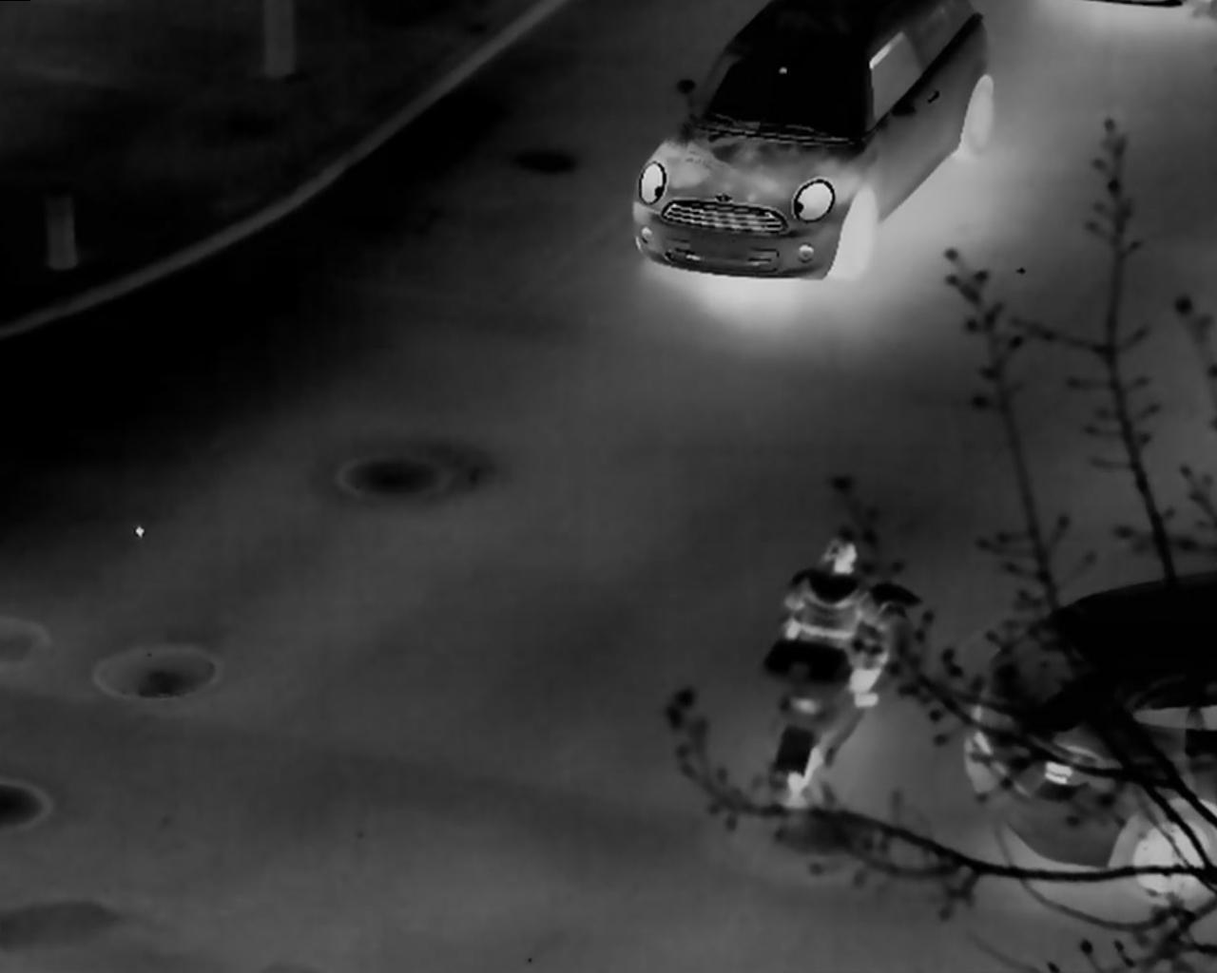person: (773, 531, 883, 744)
